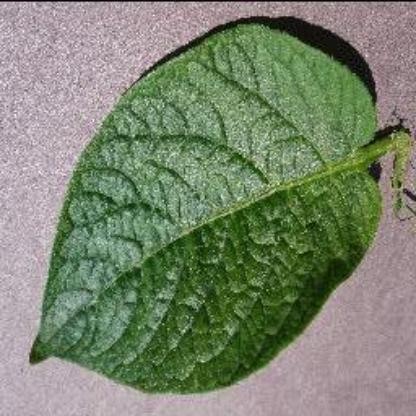Healthy-plant: (23, 24, 416, 394)
